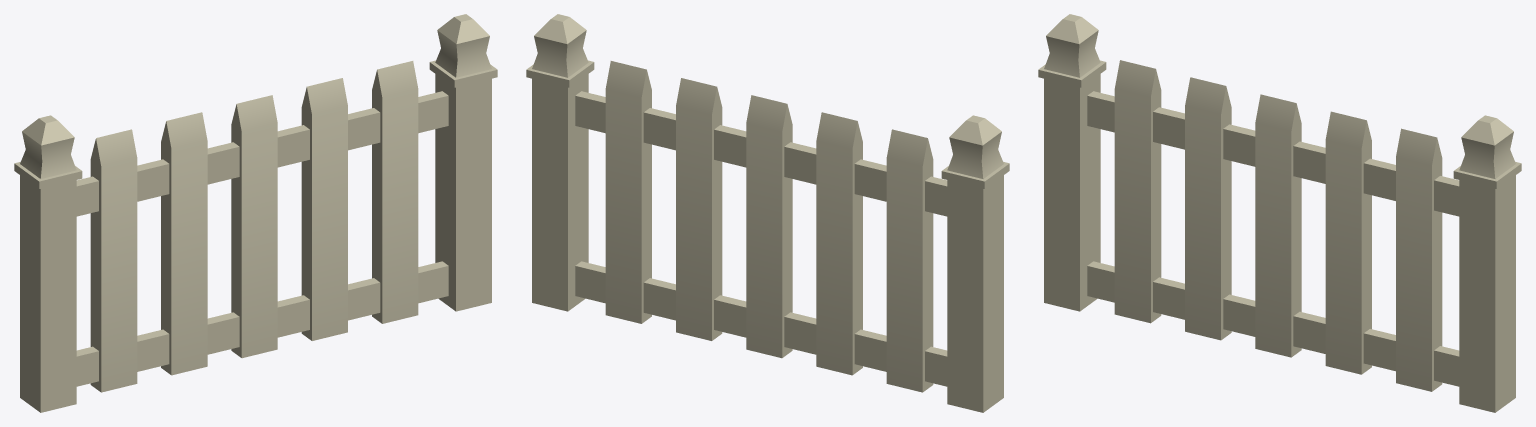
The model's file is Fence.FBX.
3 views of the same model, side by side, from view 1: azimuth 30°, elevation 25°; view 2: azimuth 150°, elevation 25°; view 3: azimuth 330°, elevation 25° (orthographic).
Parts seen in each view (by area): view 1: Box001, Box009, Box002, Box005, Box008, Box006, Box007, Box003, Box004; view 2: Box001, Box009, Box002, Box005, Box008, Box006, Box007, Box003, Box004; view 3: Box009, Box001, Box002, Box007, Box006, Box005, Box008, Box004, Box003.
Boxes of the visible parts, x1,y1,x2,y2 form: Box001: (14,115,82,412); Box009: (429,14,497,311); Box002: (90,129,137,392); Box005: (161,112,207,375); Box008: (372,61,418,323); Box006: (231,95,277,358); Box007: (301,78,347,340); Box003: (76,91,448,216); Box004: (76,261,448,386); Box001: (941,115,1009,412); Box009: (526,14,594,311); Box002: (886,129,933,392); Box005: (816,112,862,375); Box008: (605,61,651,323); Box006: (746,95,792,358); Box007: (676,78,722,340); Box003: (575,91,947,216); Box004: (575,261,947,386); Box009: (1453,115,1521,412); Box001: (1038,14,1106,311); Box002: (1114,60,1161,323); Box007: (1325,111,1371,374); Box006: (1255,94,1301,357); Box005: (1185,77,1231,340); Box008: (1396,128,1442,391); Box004: (1087,261,1459,386); Box003: (1087,91,1459,216).
Size of the model in its own units: 63.63 by 37.35 by 6.
